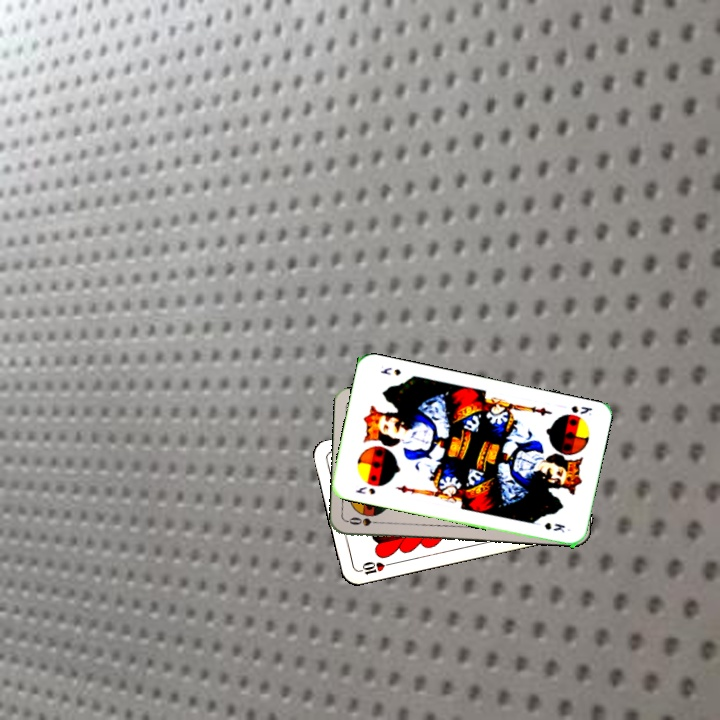H10: (354, 557, 394, 577)
SK: (567, 402, 595, 418), (351, 483, 378, 497)
SO: (344, 513, 385, 528)
